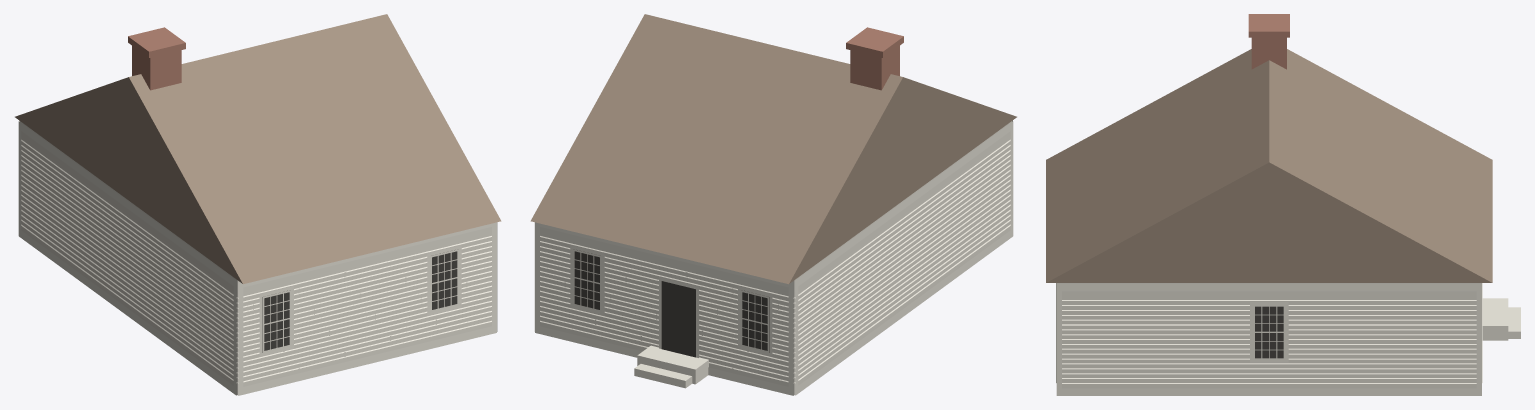
Rendered from recon_1835_blk_school_section_tier_81_d5_06__inferred_1835.glb.
3 renders of one model, left to right at view 1: azimuth 30°, elevation 25°; view 2: azimuth 150°, elevation 25°; view 3: azimuth 270°, elevation 25°, orthographic. The views are drawn at different scales.
Visible parts, largest first — view 1: recon_1835_blk_school_section_tier_81_d5_06__inferred_1835; view 2: recon_1835_blk_school_section_tier_81_d5_06__inferred_1835; view 3: recon_1835_blk_school_section_tier_81_d5_06__inferred_1835.
Part boxes in pixels (x1=…): recon_1835_blk_school_section_tier_81_d5_06__inferred_1835: x1=15, y1=14, x2=501, y2=395; recon_1835_blk_school_section_tier_81_d5_06__inferred_1835: x1=530, y1=14, x2=1016, y2=395; recon_1835_blk_school_section_tier_81_d5_06__inferred_1835: x1=1046, y1=14, x2=1520, y2=395.
Size of the model in its own units: 6.97 by 6.86 by 11.23.
